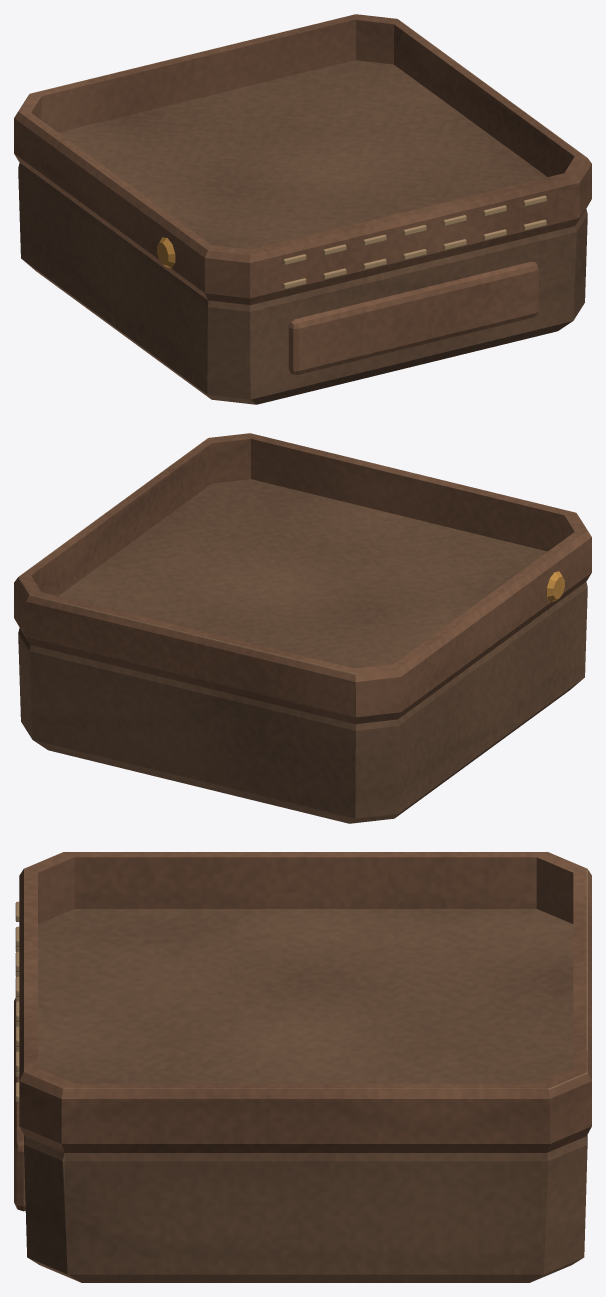
The model's file is 08_Gant_D.fbx.
3 views of the same model, one above another, from view 1: azimuth 30°, elevation 25°; view 2: azimuth 150°, elevation 25°; view 3: azimuth 270°, elevation 25° (orthographic). The views are drawn at different scales.
Visible parts, largest first — view 1: 08_Gant_D; view 2: 08_Gant_D; view 3: 08_Gant_D.
Boxes of the visible parts, x1,y1,x2,y2 form: 08_Gant_D: (14, 14, 591, 404); 08_Gant_D: (14, 433, 591, 823); 08_Gant_D: (14, 852, 591, 1282).
Bounding box in the file's own units: 1.06 × 0.405 × 1.06.
1 material, 1 textured.
